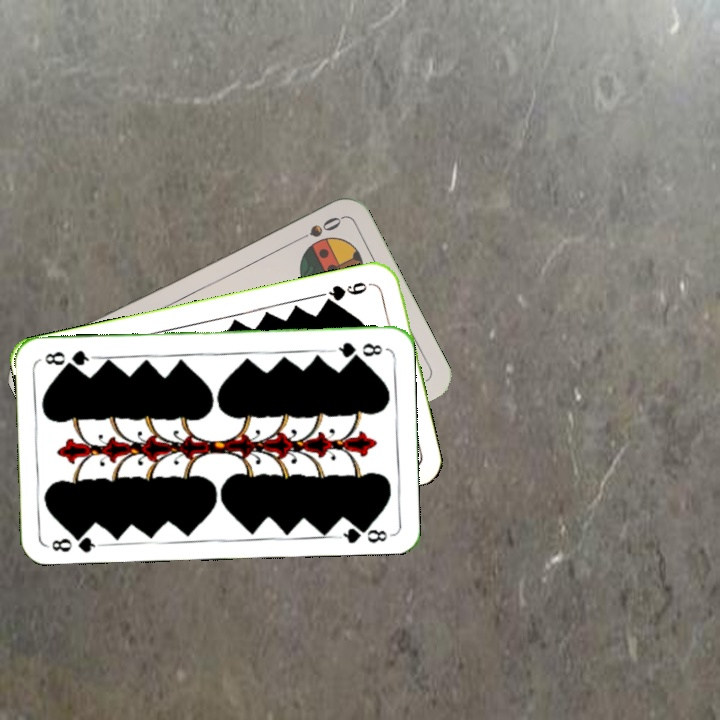G8: (45, 528, 104, 555), (329, 339, 385, 361)
G9: (319, 278, 376, 307)
SO: (289, 212, 345, 246)
